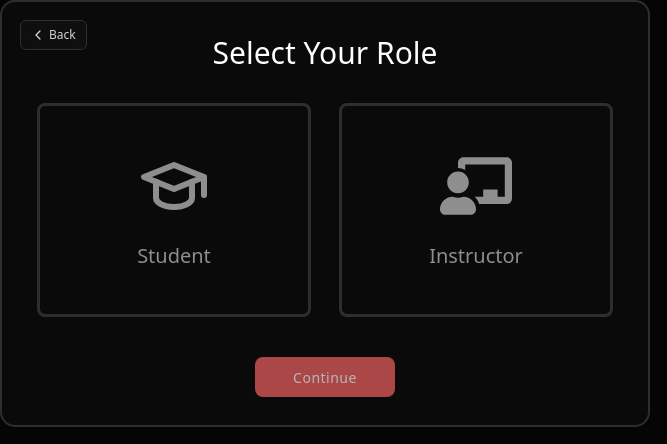
it: RoleSelectionPage › Student Role Selection › enables continue button after selecting student
What coordinates should you click on to do the following:
click the button "Student"
I would click on:
 (174, 210)
Its box is left=37, top=103, right=311, bottom=317.
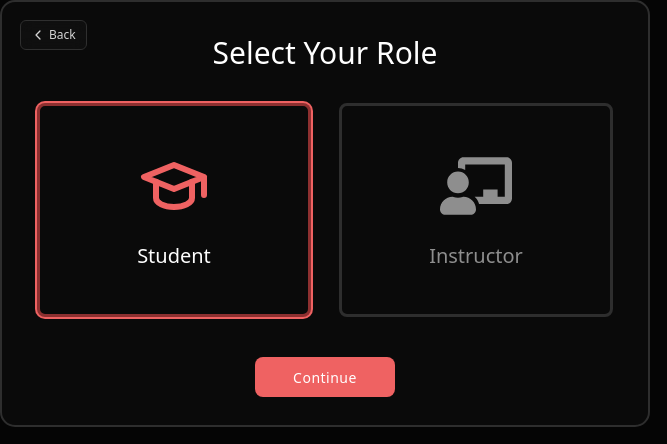
Check: the button "Continue" is enabled, box left=255, top=357, right=395, bottom=397
